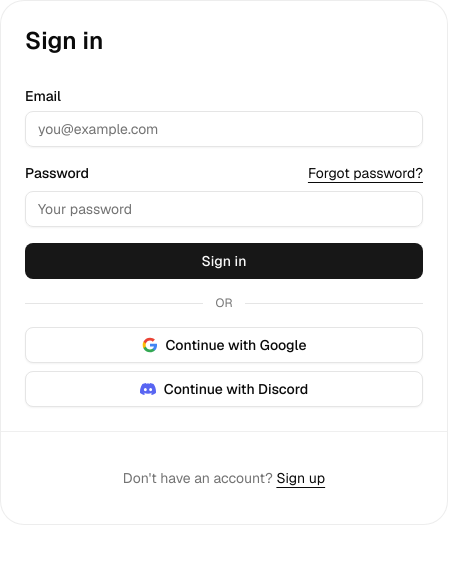
SignInPage › submits credentials and shows server-side sign-in errors
In the field labelled "Email": (224, 129) [25,111,423,147], type "user@example.com"
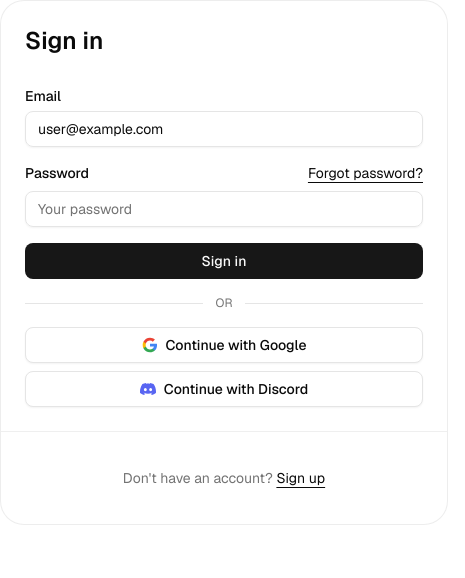
In the password field labelled "Password": (224, 209) [25,191,423,227], type "password123"
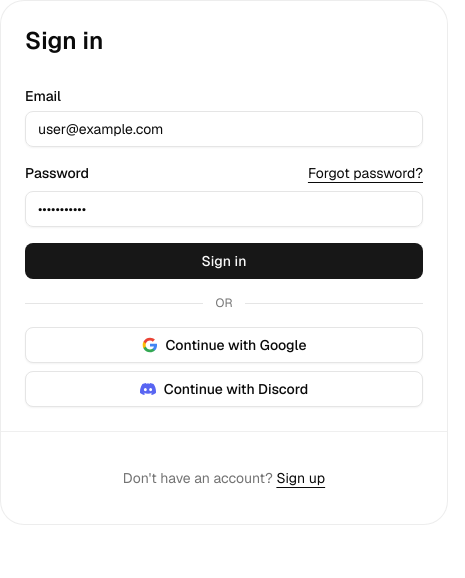
Click the button "Sign in": (224, 261) [25,243,423,279]
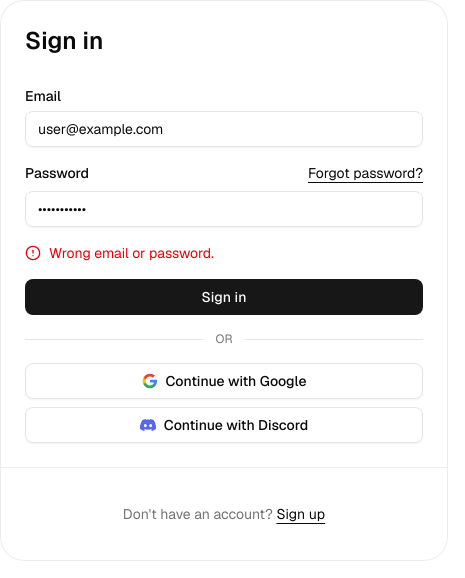
expect the message reads "Wrong email or password.": met, box [49,244,214,262]
